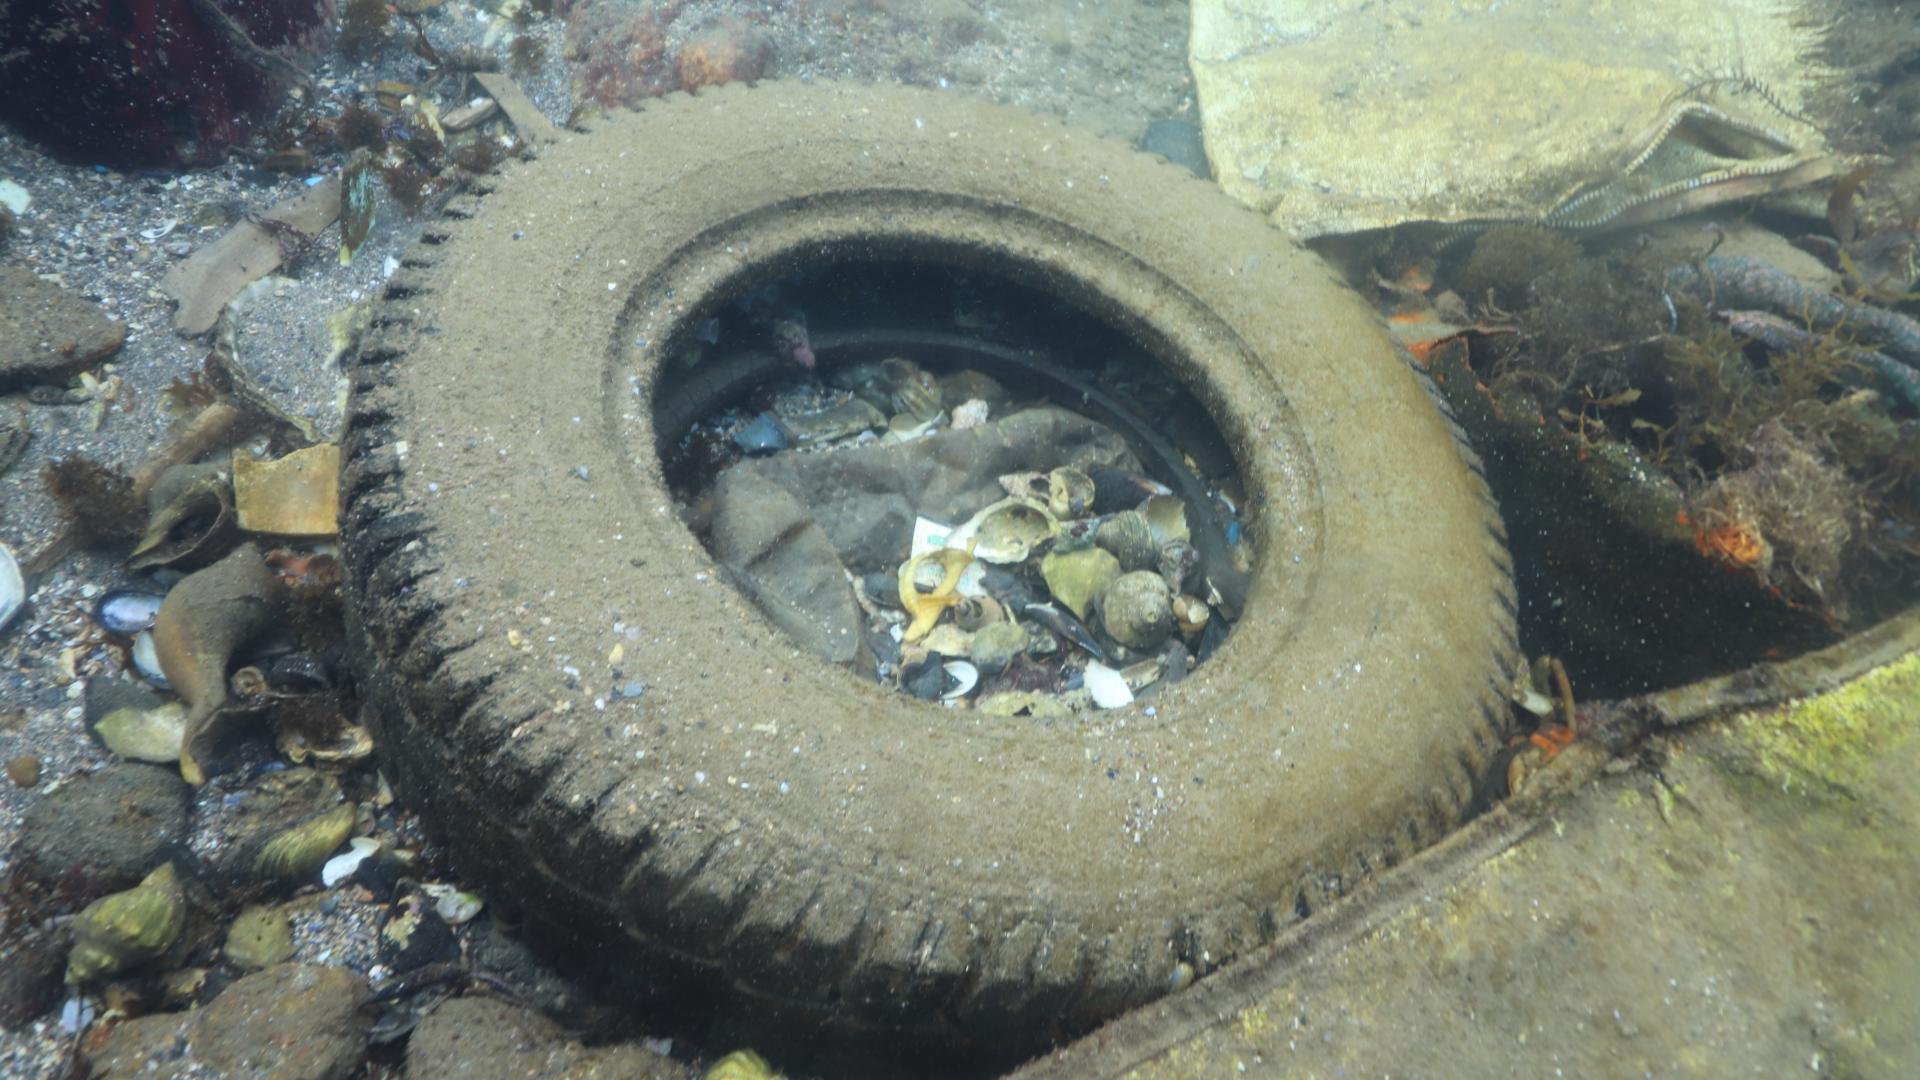tire: (334, 73, 1520, 1080)
